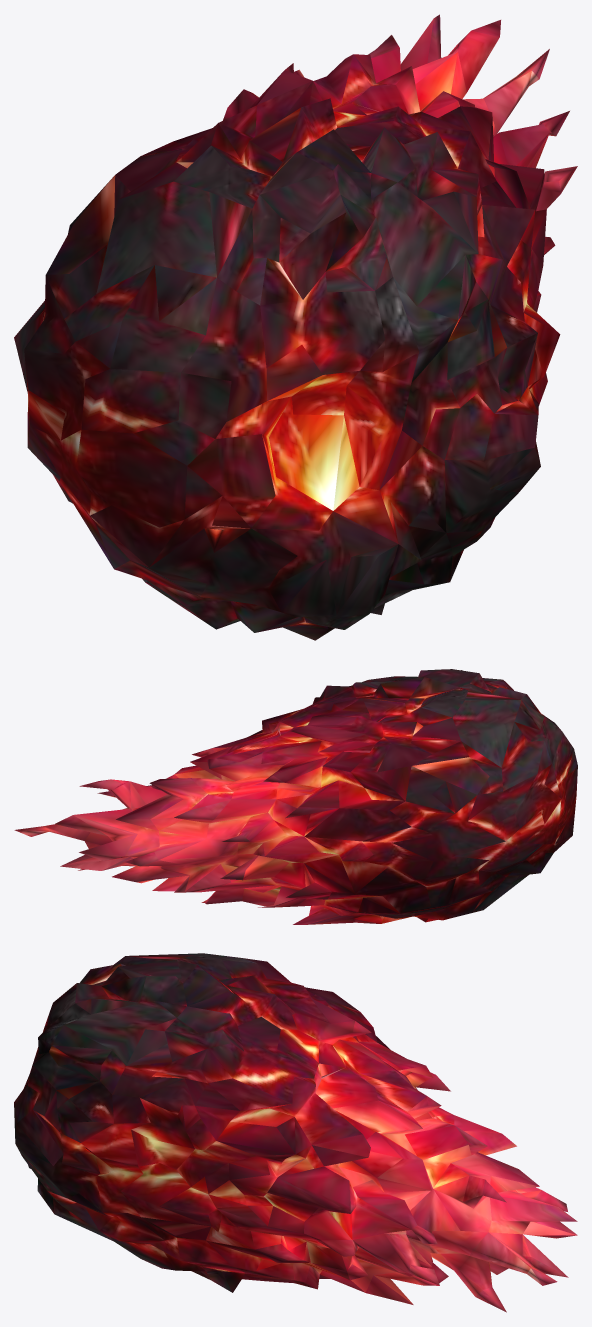
Rendered from comet_red_01.glb.
3 views of the same model, one above another, from view 1: azimuth 30°, elevation 25°; view 2: azimuth 150°, elevation 25°; view 3: azimuth 270°, elevation 25° (orthographic). The views are drawn at different scales.
Visible parts, largest first — view 1: Mesh_0.001; view 2: Mesh_0.001; view 3: Mesh_0.001.
Boxes of the visible parts, left/top/right/bottom form: Mesh_0.001: left=14, top=14, right=577, bottom=640; Mesh_0.001: left=14, top=669, right=577, bottom=924; Mesh_0.001: left=14, top=953, right=577, bottom=1312.
Bounding box in the file's own units: 1.89 × 1.06 × 1.84.
Materials: 1 (1 with a texture image).
